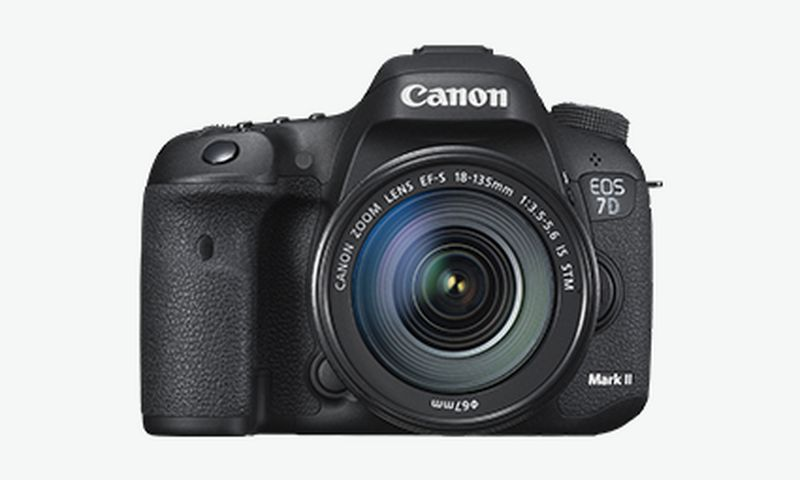kamera: (125, 33, 673, 450)
